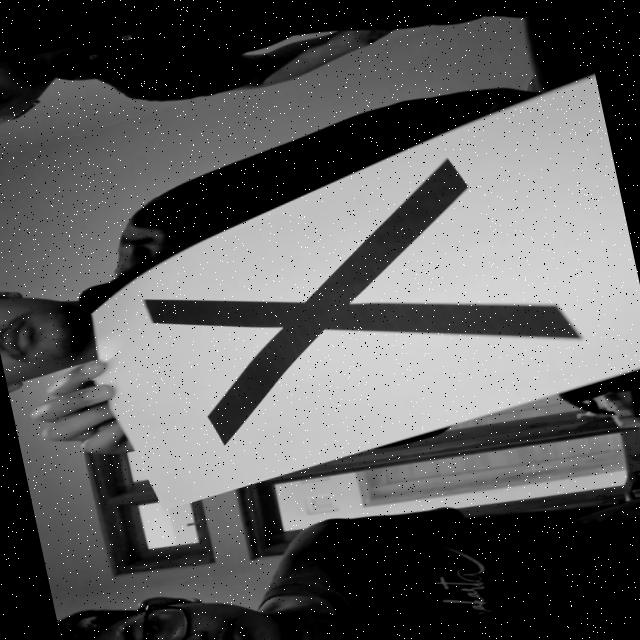x: (116, 130, 604, 472)
